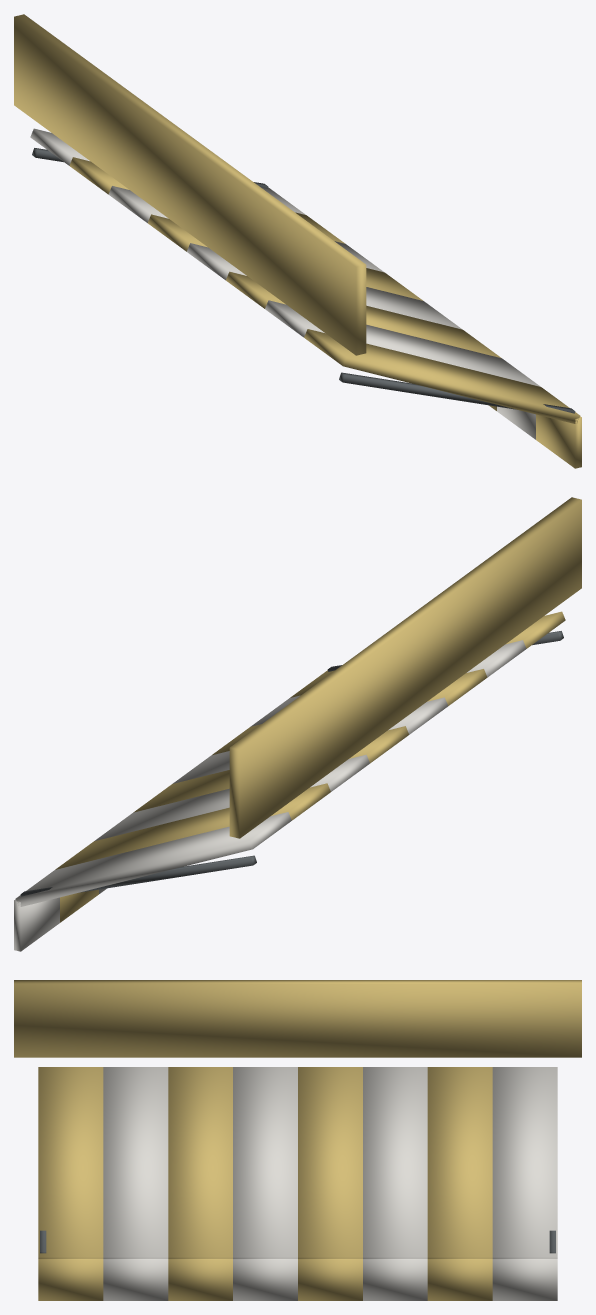
File: awning_mustard.glb
3 views of the same model, one above another, from view 1: azimuth 30°, elevation 25°; view 2: azimuth 150°, elevation 25°; view 3: azimuth 270°, elevation 25° (orthographic). The views are drawn at different scales.
Visible parts, largest first — view 1: awning_mustard_18, awning_mustard_0, awning_mustard_2, awning_mustard_4, awning_mustard_6, awning_mustard_1, awning_mustard_8, awning_mustard_16, awning_mustard_10, awning_mustard_12, awning_mustard_14, awning_mustard_3; view 2: awning_mustard_18, awning_mustard_14, awning_mustard_12, awning_mustard_10, awning_mustard_8, awning_mustard_15, awning_mustard_6, awning_mustard_17, awning_mustard_4, awning_mustard_2, awning_mustard_0, awning_mustard_13; view 3: awning_mustard_18, awning_mustard_2, awning_mustard_12, awning_mustard_0, awning_mustard_14, awning_mustard_4, awning_mustard_6, awning_mustard_8, awning_mustard_10, awning_mustard_1, awning_mustard_3, awning_mustard_13 (+5 smaller).
Boxes of the visible parts, x1,y1,x2,y2 form: awning_mustard_18: [14, 14, 366, 355]; awning_mustard_0: [304, 329, 580, 423]; awning_mustard_2: [265, 300, 540, 386]; awning_mustard_4: [226, 271, 501, 358]; awning_mustard_6: [187, 243, 462, 329]; awning_mustard_1: [536, 414, 581, 468]; awning_mustard_8: [148, 214, 423, 300]; awning_mustard_16: [339, 372, 575, 413]; awning_mustard_10: [108, 186, 383, 272]; awning_mustard_12: [69, 157, 345, 243]; awning_mustard_14: [30, 128, 305, 214]; awning_mustard_3: [497, 406, 535, 439]; awning_mustard_18: [229, 497, 581, 838]; awning_mustard_14: [15, 812, 291, 906]; awning_mustard_12: [55, 783, 330, 869]; awning_mustard_10: [94, 754, 369, 841]; awning_mustard_8: [133, 726, 408, 812]; awning_mustard_15: [14, 897, 59, 951]; awning_mustard_6: [172, 697, 447, 783]; awning_mustard_17: [20, 855, 256, 896]; awning_mustard_4: [212, 669, 487, 755]; awning_mustard_2: [250, 640, 526, 726]; awning_mustard_0: [290, 611, 565, 697]; awning_mustard_13: [60, 889, 98, 922]; awning_mustard_18: [14, 980, 581, 1057]; awning_mustard_2: [103, 1067, 168, 1258]; awning_mustard_12: [427, 1067, 492, 1258]; awning_mustard_0: [38, 1067, 103, 1258]; awning_mustard_14: [492, 1067, 557, 1258]; awning_mustard_4: [168, 1067, 232, 1258]; awning_mustard_6: [233, 1067, 297, 1258]; awning_mustard_8: [298, 1067, 362, 1258]; awning_mustard_10: [363, 1067, 427, 1258]; awning_mustard_1: [38, 1258, 103, 1300]; awning_mustard_3: [103, 1258, 168, 1300]; awning_mustard_13: [427, 1258, 492, 1300].
Size of the model in its own units: 1.42 by 1.52 by 3.5.
